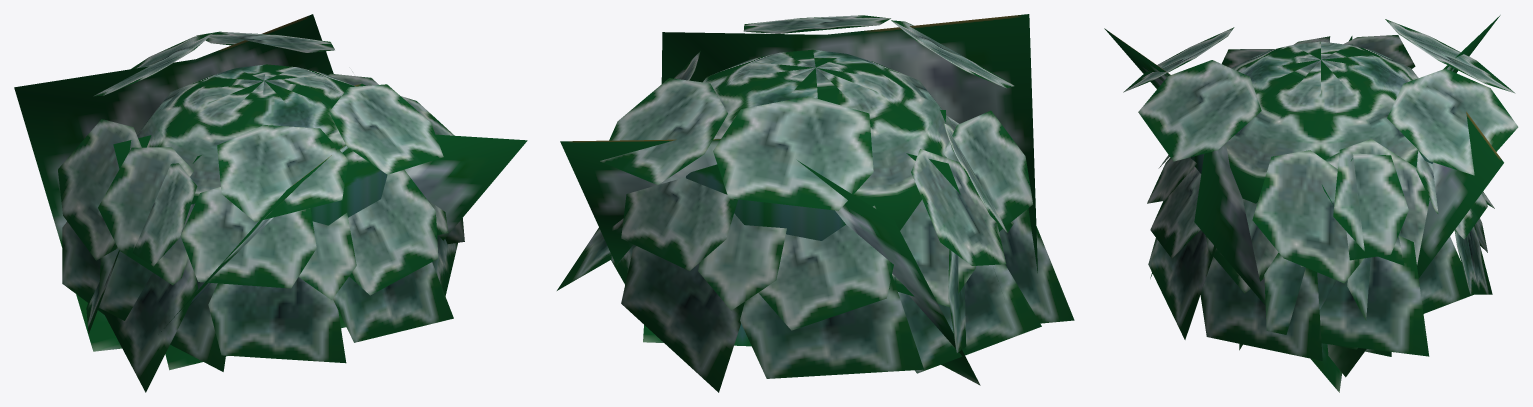
The model's file is bush-holly-winter.glb.
The picture shows the model from 3 angles, left to right: view 1: azimuth 30°, elevation 25°; view 2: azimuth 150°, elevation 25°; view 3: azimuth 270°, elevation 25°; orthographic projection. The views are drawn at different scales.
Visible parts, largest first — view 1: bush-holly-winter; view 2: bush-holly-winter; view 3: bush-holly-winter.
Boxes of the visible parts, x1,y1,x2,y2 form: bush-holly-winter: (14,14,527,392); bush-holly-winter: (557,14,1074,392); bush-holly-winter: (1104,15,1518,392).
Size of the model in its own units: 1.29 by 0.8696 by 1.18.
1 material, 1 textured.
